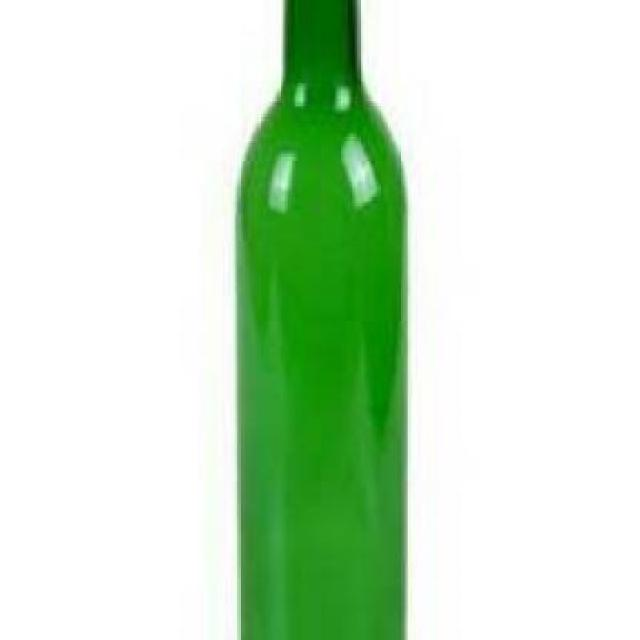GLASS: (236, 0, 409, 637)
